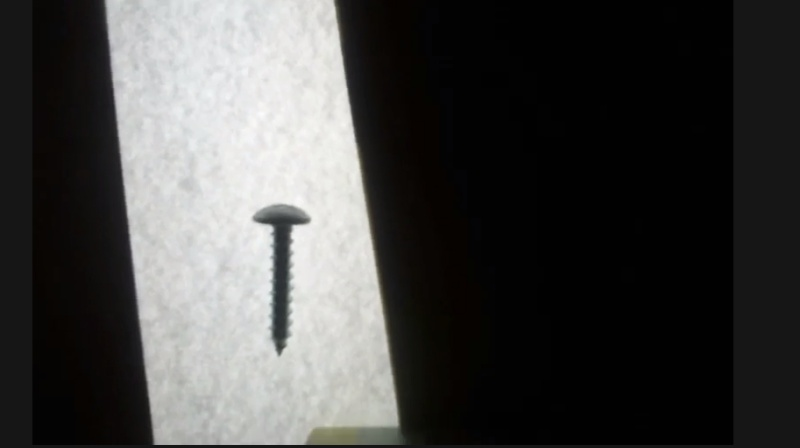S003: (249, 199, 316, 357)
